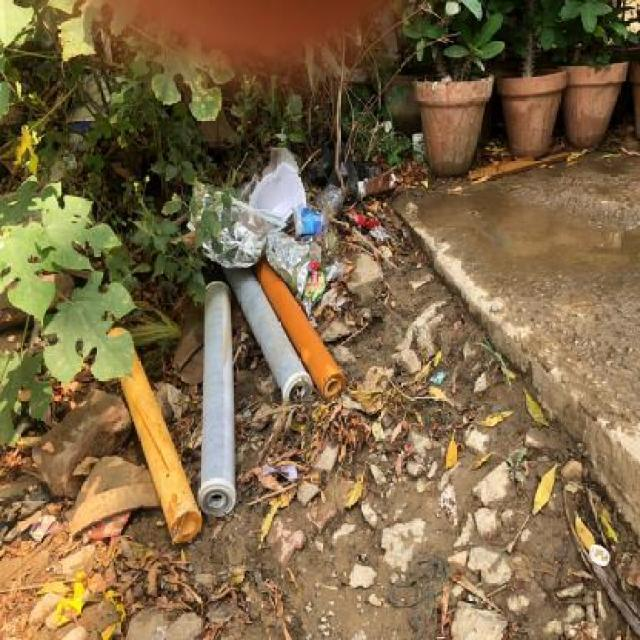garbage: (186, 155, 419, 266), (108, 332, 200, 560), (228, 257, 356, 412), (197, 274, 236, 525)
